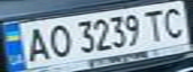2: (90, 15, 112, 52)
3: (72, 17, 96, 54), (109, 12, 130, 50)
9: (121, 11, 145, 46)
A: (18, 24, 51, 63)
C: (157, 3, 190, 39)
O: (42, 21, 72, 60)
T: (139, 7, 169, 43)
